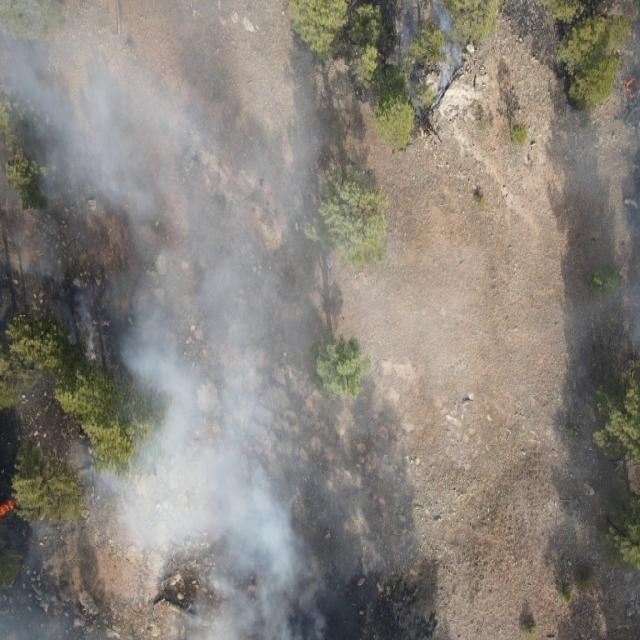fire: (624, 72, 640, 102), (0, 498, 19, 522)
smoke: (0, 0, 353, 640), (352, 227, 484, 578), (568, 63, 640, 366), (393, 0, 468, 128)
